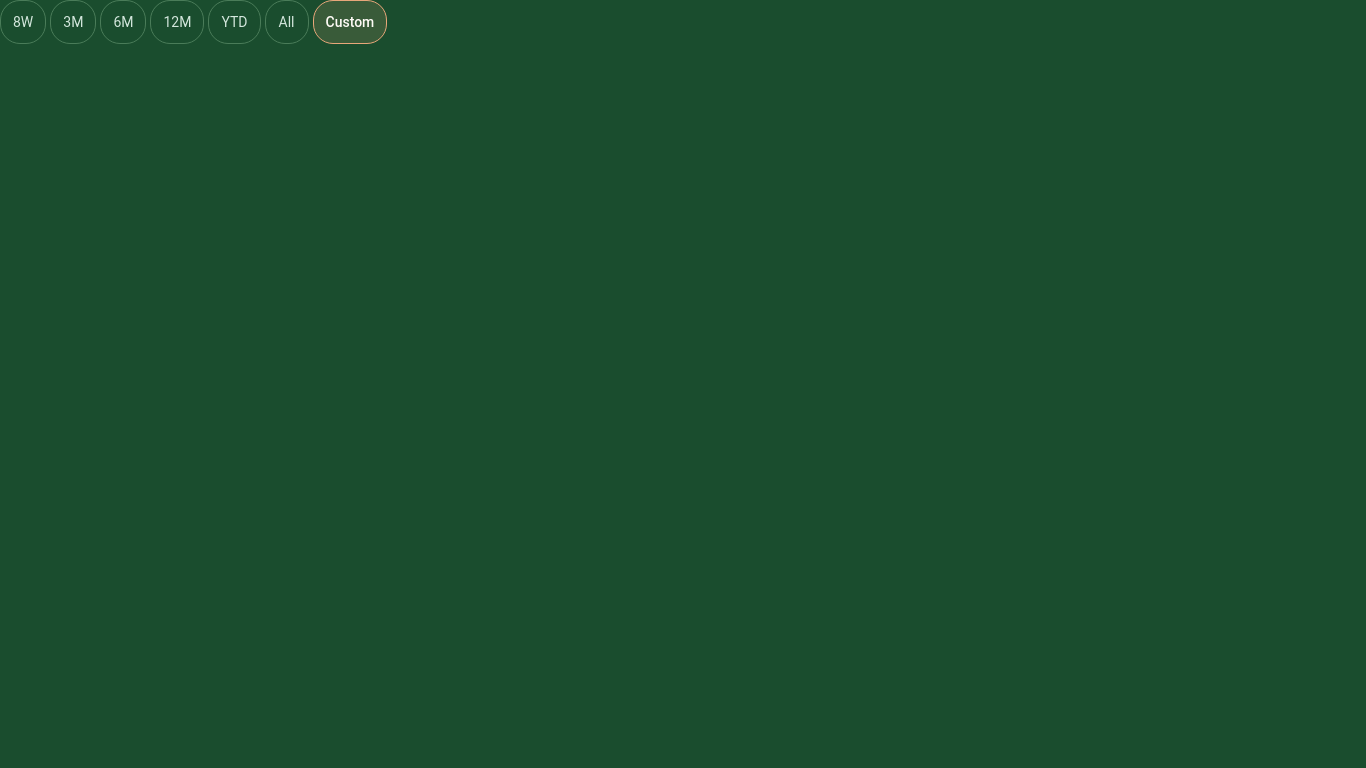
Test: TimeWindowFilter › Custom dates › opens again over a custom window to edit it, prefilled with its dates
Step 1. Click the button "Custom" → (350, 22), box [312,0,387,44]
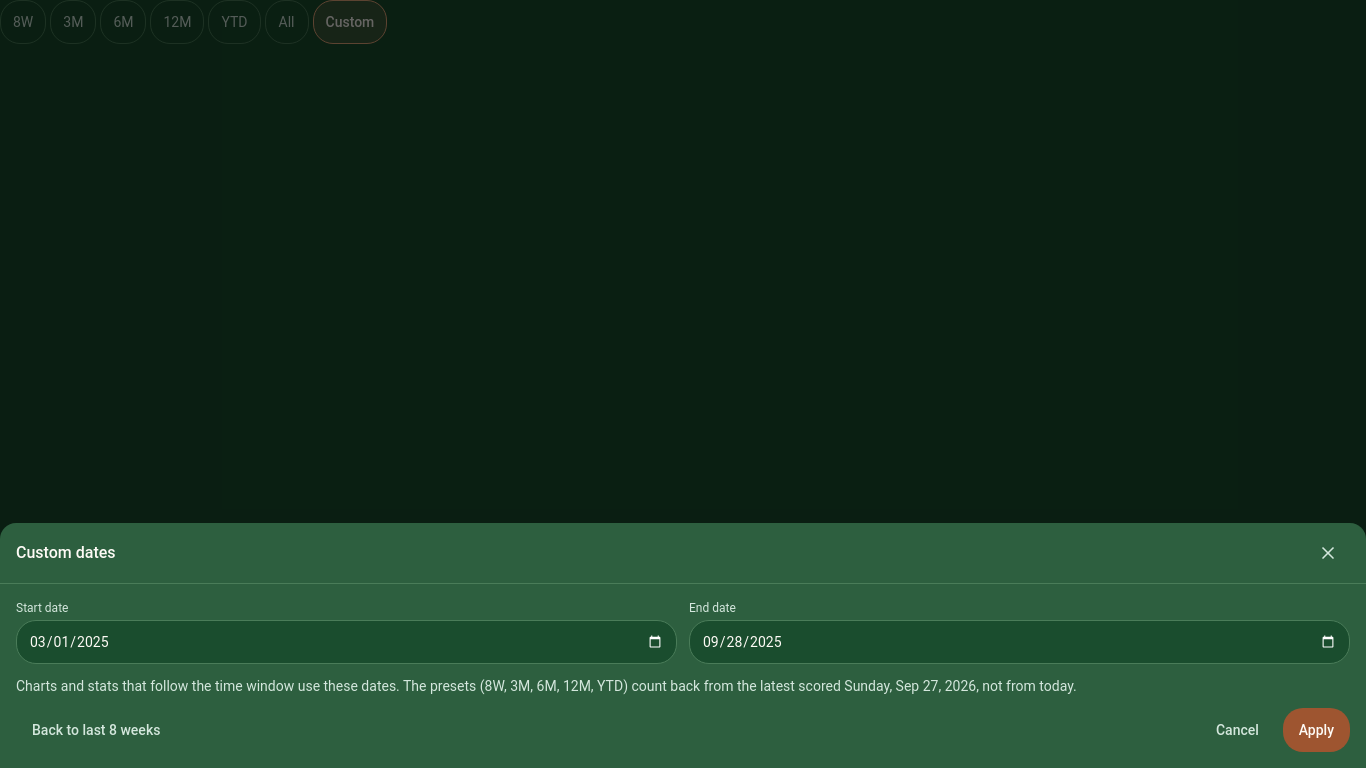
Expected: the date field labelled "Start date" holds "2025-03-01", [16,620,677,664]
Expected: the date field labelled "End date" holds "2025-09-28", [689,620,1350,664]
